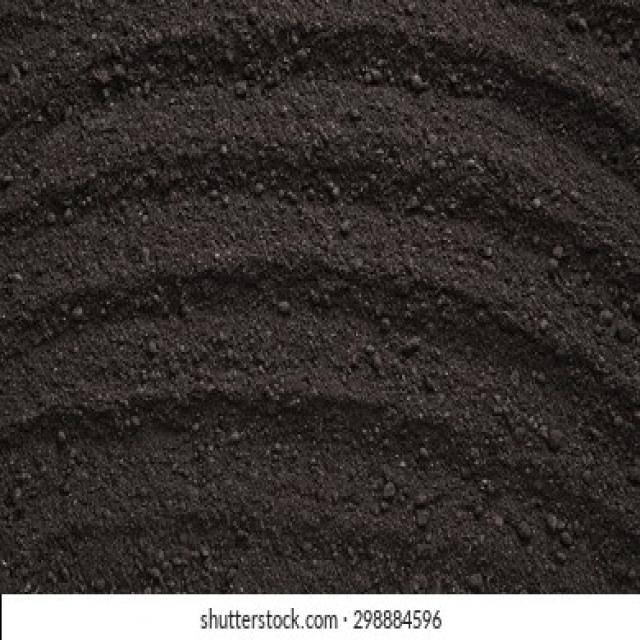Black Soil: (48, 83, 588, 503)
